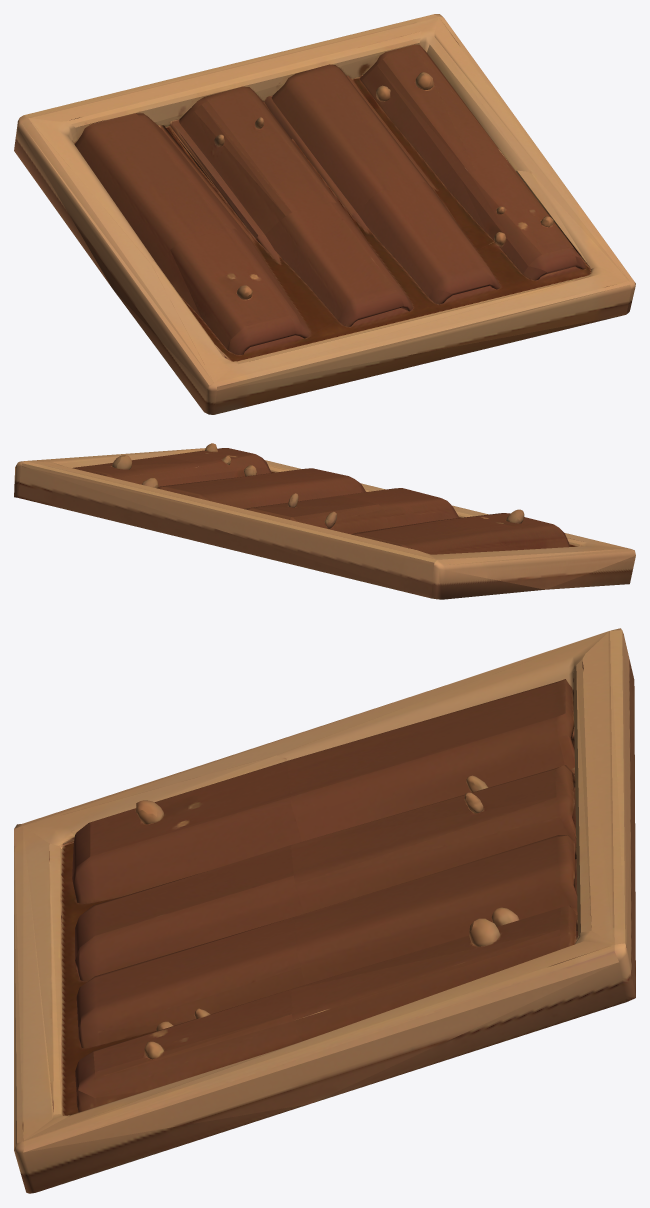
Rendered from planting_mound2.glb.
3 renders of one model, top to bottom at view 1: azimuth 30°, elevation 25°; view 2: azimuth 150°, elevation 25°; view 3: azimuth 270°, elevation 25°, orthographic. The views are drawn at different scales.
Visible parts, largest first — view 1: mesh_node; view 2: mesh_node; view 3: mesh_node.
Part boxes in pixels (x1=…): mesh_node: x1=14, y1=14, x2=635, y2=414; mesh_node: x1=14, y1=443, x2=635, y2=599; mesh_node: x1=14, y1=628, x2=635, y2=1193.
Bounding box in the file's own units: 0.9961 × 0.3516 × 0.7949.
1 material, 1 textured.
